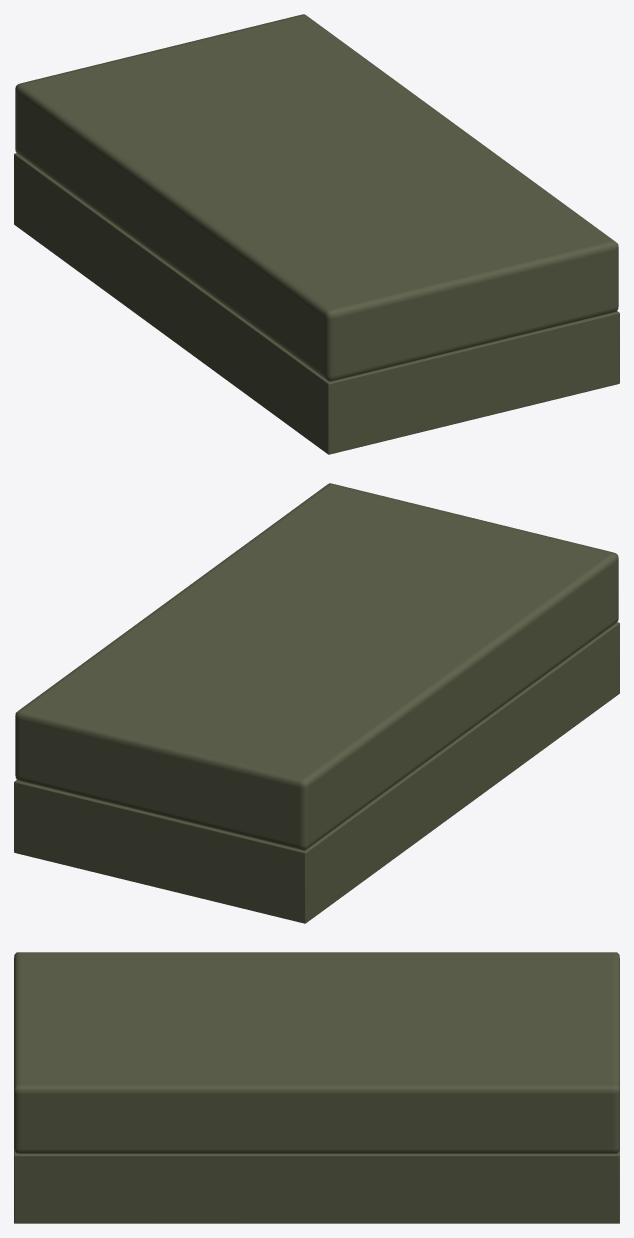
File: military_case.glb
3 views of the same model, one above another, from view 1: azimuth 30°, elevation 25°; view 2: azimuth 150°, elevation 25°; view 3: azimuth 270°, elevation 25° (orthographic). The views are drawn at different scales.
Visible parts, largest first — view 1: Upper_Case, Lower_Case; view 2: Upper_Case, Lower_Case; view 3: Upper_Case, Lower_Case.
Part boxes in pixels (x1=…): Upper_Case: x1=15, y1=14, x2=618, y2=381; Lower_Case: x1=14, y1=153, x2=619, y2=454; Upper_Case: x1=15, y1=483, x2=618, y2=850; Lower_Case: x1=14, y1=622, x2=619, y2=923; Upper_Case: x1=14, y1=952, x2=619, y2=1153; Lower_Case: x1=14, y1=1149, x2=619, y2=1223.
Bounding box in the file's own units: 2 × 0.9274 × 3.73.
